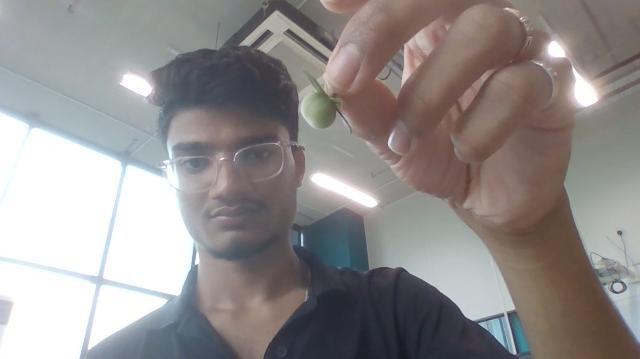Fruit Maturation: (299, 92, 337, 132)
